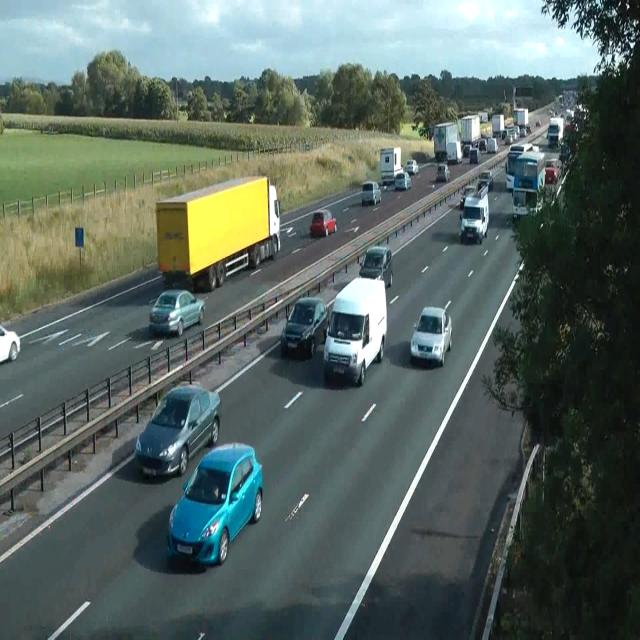bus: (280, 296, 328, 358), (148, 289, 206, 338), (410, 305, 452, 367), (359, 245, 393, 287), (309, 208, 337, 237), (0, 324, 20, 362), (361, 180, 381, 206), (544, 157, 560, 184), (459, 185, 476, 209), (478, 171, 493, 191), (395, 172, 411, 190), (509, 142, 533, 154), (436, 163, 450, 182), (405, 158, 419, 174), (559, 143, 570, 163), (469, 148, 480, 164), (477, 139, 487, 152), (463, 143, 471, 157)
car: (511, 150, 545, 222)
jeep: (166, 441, 263, 567), (134, 382, 222, 478), (323, 276, 387, 386), (459, 188, 489, 244)
minibus: (154, 174, 280, 292), (506, 142, 536, 192), (433, 121, 462, 164), (380, 147, 402, 186), (460, 114, 480, 146), (547, 116, 563, 146), (513, 108, 531, 134), (492, 114, 504, 138), (478, 111, 488, 124)
